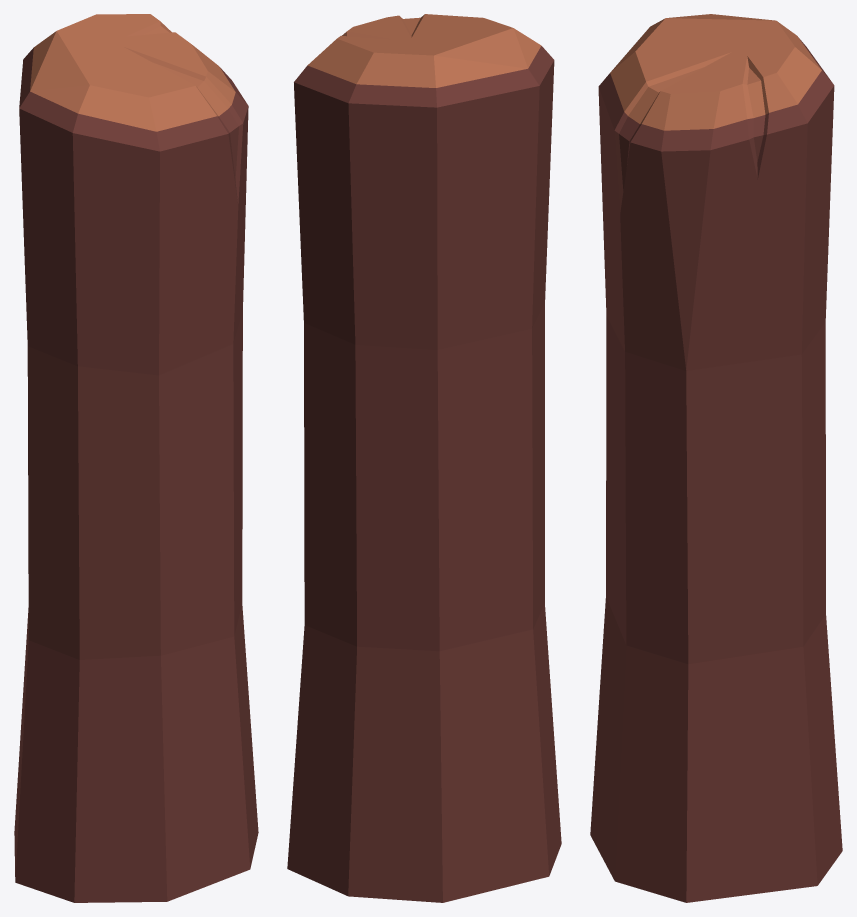
The model's file is Wooden Pole Blunt 06.fbx.
3 renders of one model, left to right at view 1: azimuth 30°, elevation 25°; view 2: azimuth 150°, elevation 25°; view 3: azimuth 270°, elevation 25°, orthographic. The views are drawn at different scales.
Visible parts, largest first — view 1: Wooden Pole Blunt 06; view 2: Wooden Pole Blunt 06; view 3: Wooden Pole Blunt 06.
Part boxes in pixels (x1,y1,x2,y2): Wooden Pole Blunt 06: (14, 14, 258, 902); Wooden Pole Blunt 06: (287, 14, 561, 902); Wooden Pole Blunt 06: (590, 14, 842, 902).
Bounding box in the file's own units: 31.5 × 104 × 29.49.
